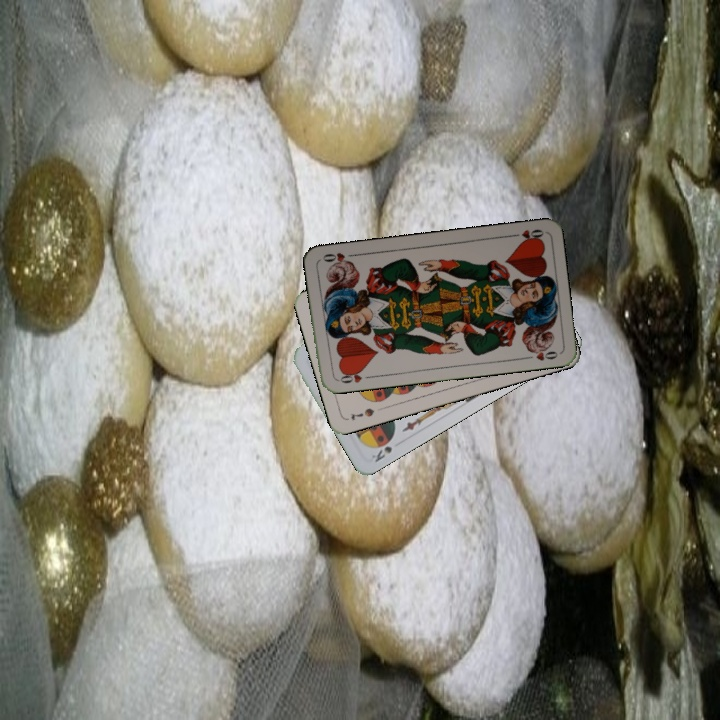HO: (333, 365, 373, 386), (505, 225, 546, 245)
S7: (346, 404, 377, 423)
SK: (367, 442, 395, 465)
